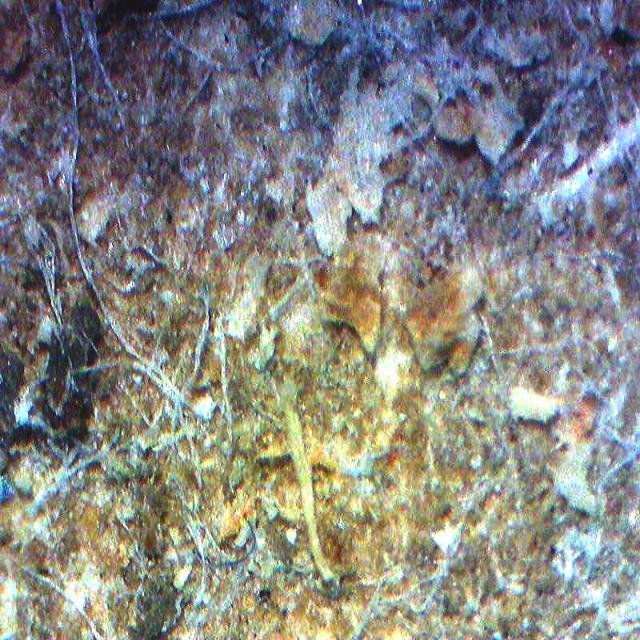microplastic: (197, 512, 258, 566)
